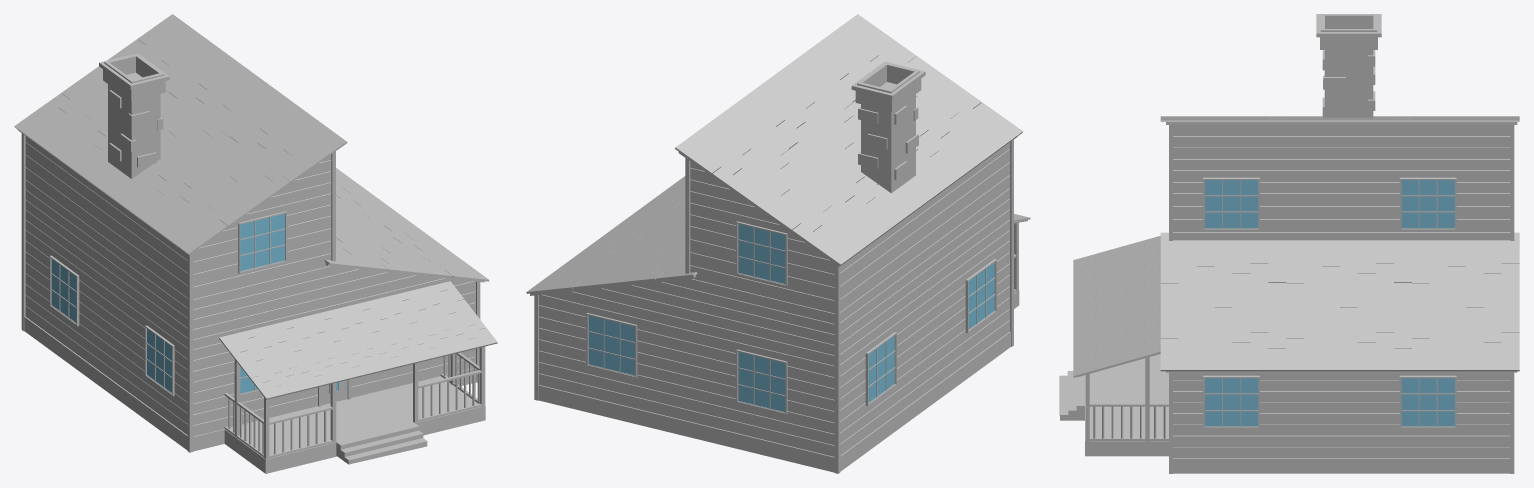
File: House_03.gltf
3 renders of one model, left to right at view 1: azimuth 30°, elevation 25°; view 2: azimuth 150°, elevation 25°; view 3: azimuth 270°, elevation 25°, orthographic. The views are drawn at different scales.
Visible parts, largest first — view 1: Hous_03; view 2: Hous_03; view 3: Hous_03.
Part boxes in pixels (<box>): Hous_03: <box>14,14,497,473</box>; Hous_03: <box>526,14,1030,473</box>; Hous_03: <box>1059,14,1519,473</box>.
Size of the model in its own units: 9.43 by 9.37 by 12.13.
